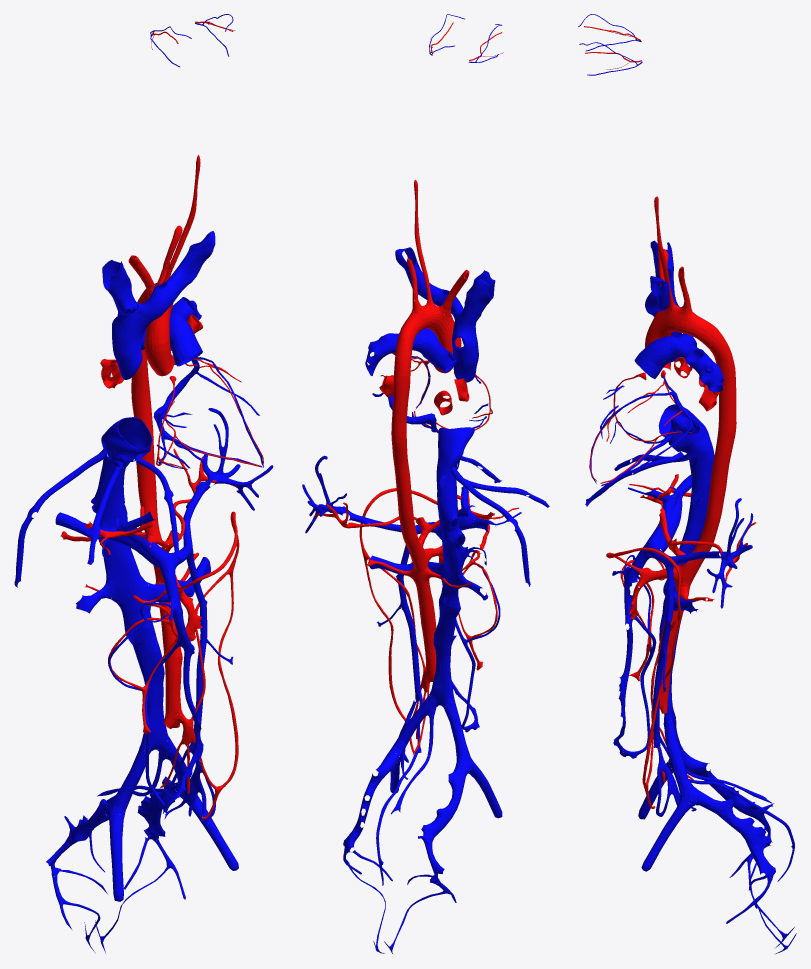
File: VH_M_Blood_Vasculature_0.2.glb
The picture shows the model from 3 angles, left to right: view 1: azimuth 30°, elevation 25°; view 2: azimuth 150°, elevation 25°; view 3: azimuth 270°, elevation 25°; orthographic projection. The views are drawn at different scales.
Parts seen in each view (by area): view 1: VH_M_inferior_vena_cava_b, VH_M_descending_aorta_b, VH_M_inferior_vena_cava_a, VH_M_superior_mesenteric_vein, VH_M_splenic_vein, VH_M_brachiocephalic_vein_L, VH_M_superior_vena_cava, VH_M_marginal_artery_of_Drummond, VH_M_descending_aorta_a, VH_M_inferior_mesenteric_vein, VH_M_brachiocephalic_vein_R, VH_M_pulmonary_trunk (+18 smaller); view 2: VH_M_inferior_vena_cava_b, VH_M_descending_aorta_b, VH_M_descending_aorta_a, VH_M_inferior_vena_cava_a, VH_M_aortic_arch, VH_M_internal_iliac_vein_R, VH_M_superior_vena_cava, VH_M_splenic_vein, VH_M_brachiocephalic_vein_R, VH_M_brachiocephalic_vein_L, VH_M_internal_iliac_vein_L, VH_M_marginal_artery_of_Drummond (+8 smaller); view 3: VH_M_descending_aorta_a, VH_M_descending_aorta_b, VH_M_inferior_vena_cava_b, VH_M_inferior_vena_cava_a, VH_M_internal_iliac_vein_L, VH_M_aortic_arch, VH_M_splenic_vein, VH_M_superior_mesenteric_vein, VH_M_pulmonary_artery_L, VH_M_inferior_mesenteric_vein, VH_M_marginal_artery_of_Drummond, VH_M_internal_iliac_vein_R (+12 smaller).
Part boxes in pixels (<box>): VH_M_inferior_vena_cava_b: <box>91,473,169,751</box>; VH_M_descending_aorta_b: <box>136,459,182,728</box>; VH_M_inferior_vena_cava_a: <box>101,417,152,481</box>; VH_M_superior_mesenteric_vein: <box>158,563,203,810</box>; VH_M_splenic_vein: <box>170,408,273,566</box>; VH_M_brachiocephalic_vein_L: <box>142,231,215,320</box>; VH_M_superior_vena_cava: <box>112,302,152,379</box>; VH_M_marginal_artery_of_Drummond: <box>179,511,239,819</box>; VH_M_descending_aorta_a: <box>131,297,154,461</box>; VH_M_inferior_mesenteric_vein: <box>186,548,207,754</box>; VH_M_brachiocephalic_vein_R: <box>102,260,137,315</box>; VH_M_pulmonary_trunk: <box>169,312,202,366</box>; VH_M_inferior_vena_cava_b: <box>429,487,465,707</box>; VH_M_descending_aorta_b: <box>396,486,436,682</box>; VH_M_descending_aorta_a: <box>391,343,412,489</box>; VH_M_inferior_vena_cava_a: <box>436,427,474,493</box>; VH_M_aortic_arch: <box>397,304,459,348</box>; VH_M_internal_iliac_vein_R: <box>418,762,468,884</box>; VH_M_superior_vena_cava: <box>451,310,478,382</box>; VH_M_splenic_vein: <box>302,455,440,534</box>; VH_M_brachiocephalic_vein_R: <box>461,270,495,325</box>; VH_M_brachiocephalic_vein_L: <box>395,247,463,319</box>; VH_M_internal_iliac_vein_L: <box>343,752,399,853</box>; VH_M_marginal_artery_of_Drummond: <box>359,488,437,753</box>; VH_M_descending_aorta_a: <box>708,334,736,488</box>; VH_M_descending_aorta_b: <box>657,485,726,713</box>; VH_M_inferior_vena_cava_b: <box>659,470,711,721</box>; VH_M_inferior_vena_cava_a: <box>658,404,714,472</box>; VH_M_internal_iliac_vein_L: <box>696,790,775,880</box>; VH_M_aortic_arch: <box>647,305,720,348</box>; VH_M_splenic_vein: <box>645,498,753,608</box>; VH_M_superior_mesenteric_vein: <box>613,545,651,752</box>; VH_M_pulmonary_artery_L: <box>670,337,724,391</box>; VH_M_inferior_mesenteric_vein: <box>653,561,673,748</box>; VH_M_marginal_artery_of_Drummond: <box>606,547,681,808</box>; VH_M_internal_iliac_vein_R: <box>684,756,774,846</box>.
Bounding box in the file's own units: 0.2363 × 0.8741 × 0.1871.
